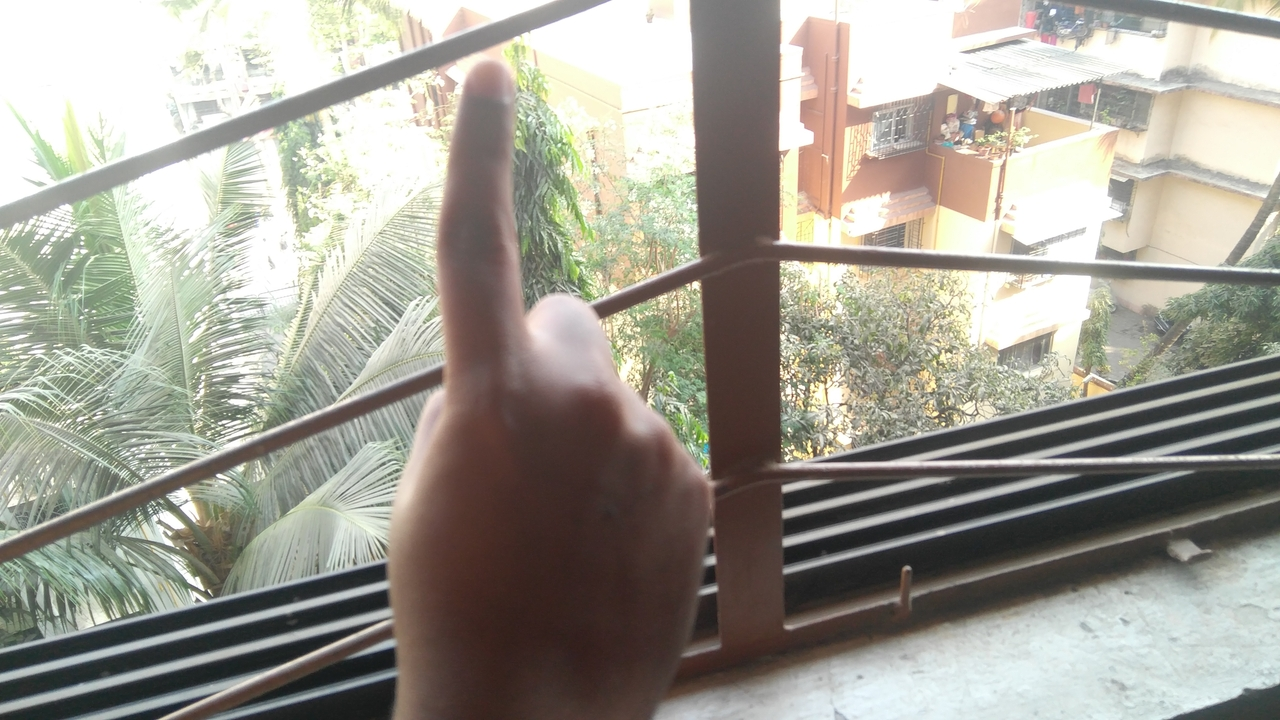fingertip: (454, 48, 514, 114)
